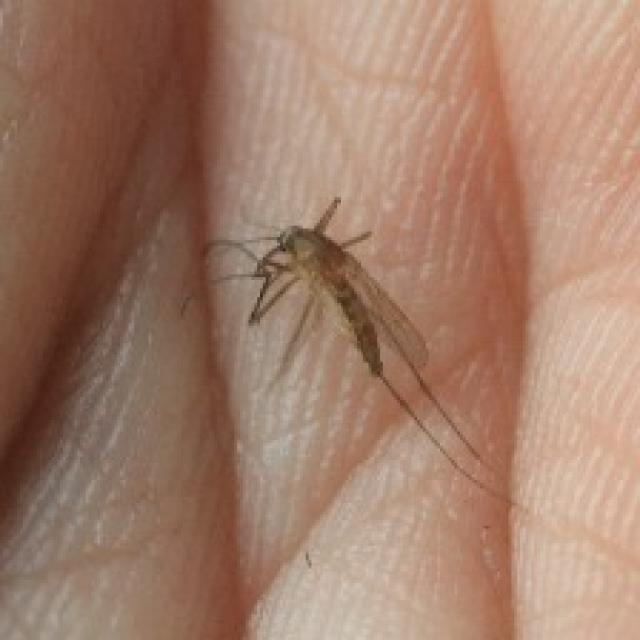culex: (195, 192, 514, 508)
